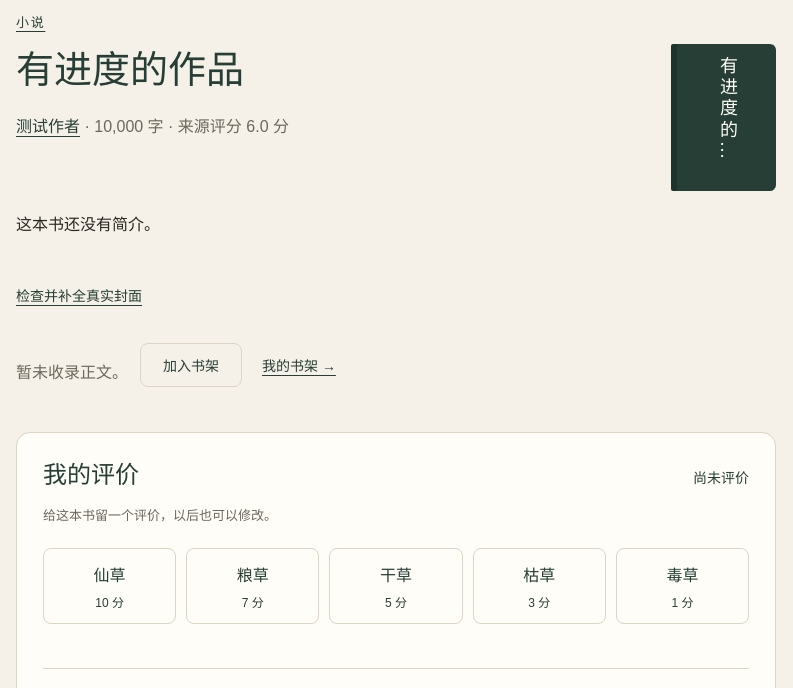
Test: can collect an unread book without text and never creates progress on its behalf
Click the button "加入书架". click: x=191, y=365
box: [140,343,242,387]
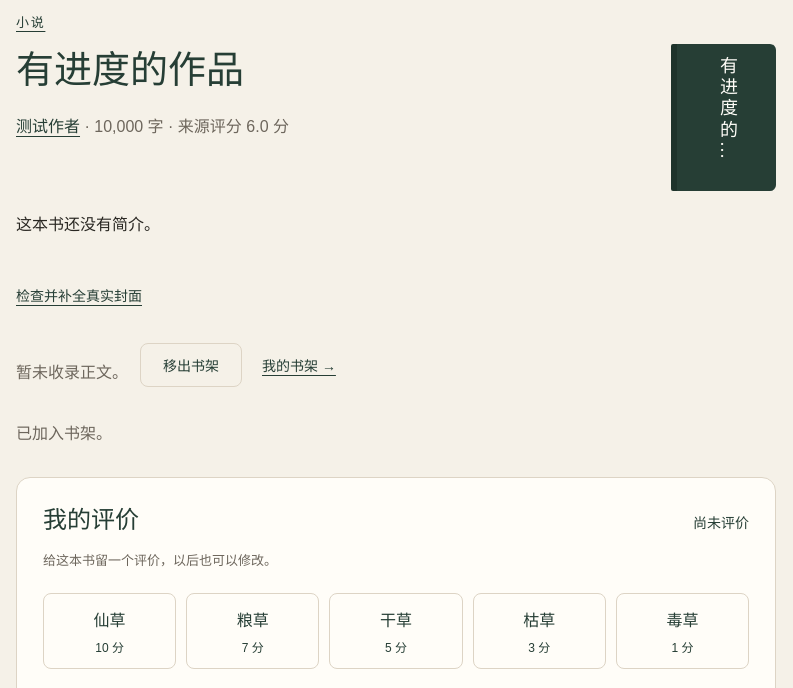
Expected: the text "已加入书架" is shown, [16,425,112,442]
